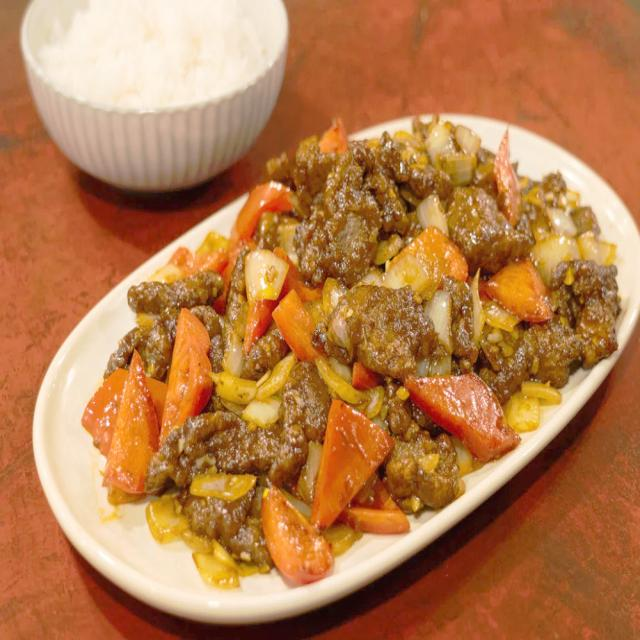Beijing Beef: (10, 107, 638, 610)
